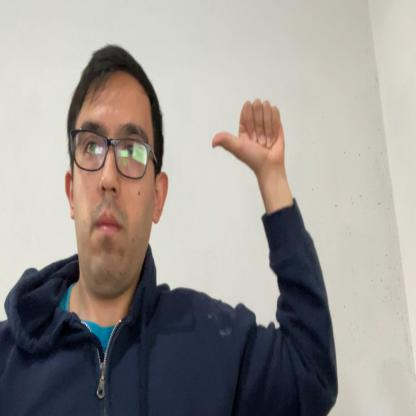A: (212, 99, 286, 172)
